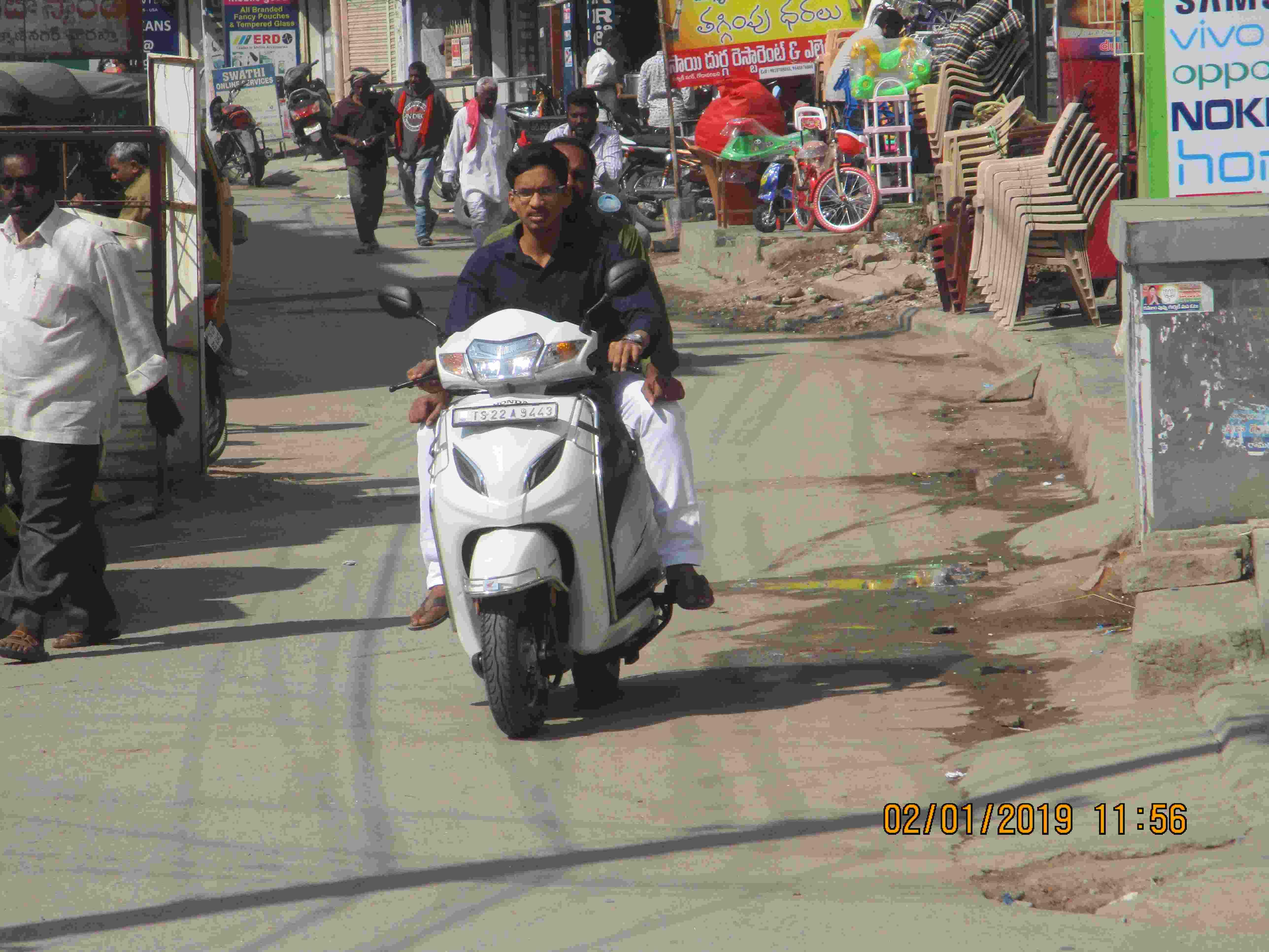plate: (448, 390, 564, 428)
